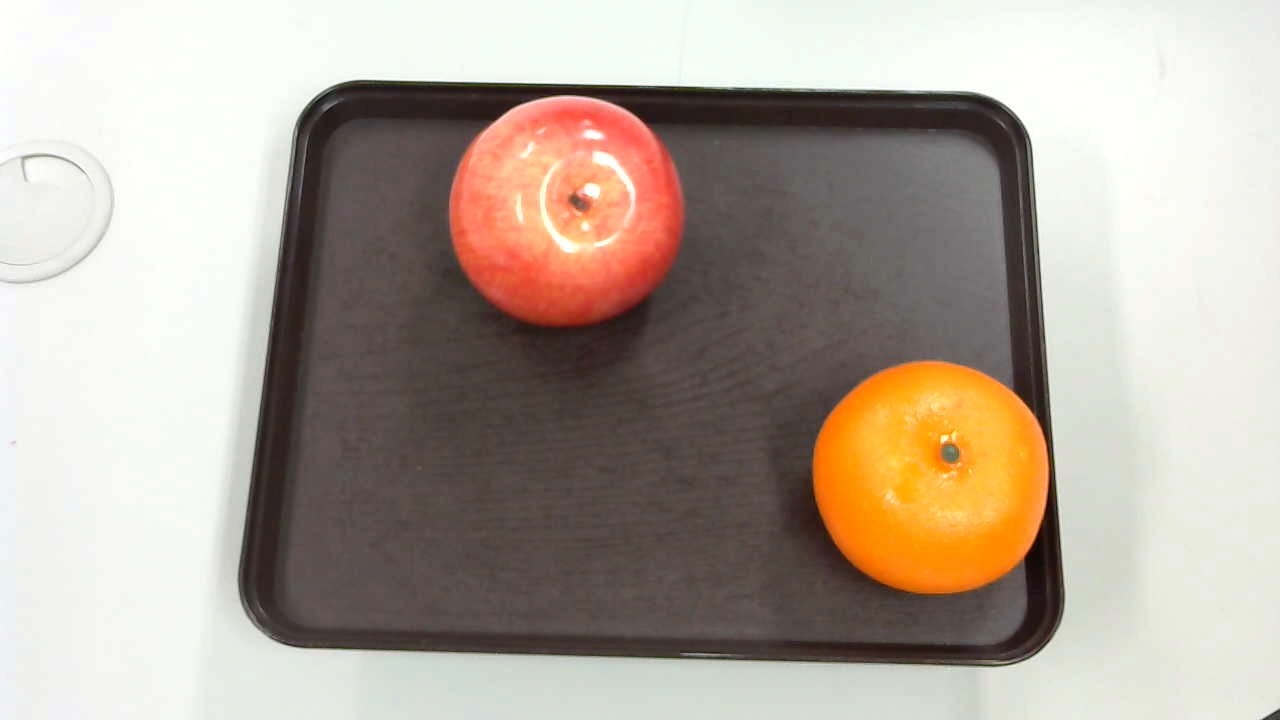orange: (812, 362, 1051, 595)
red apple: (442, 91, 686, 334)
